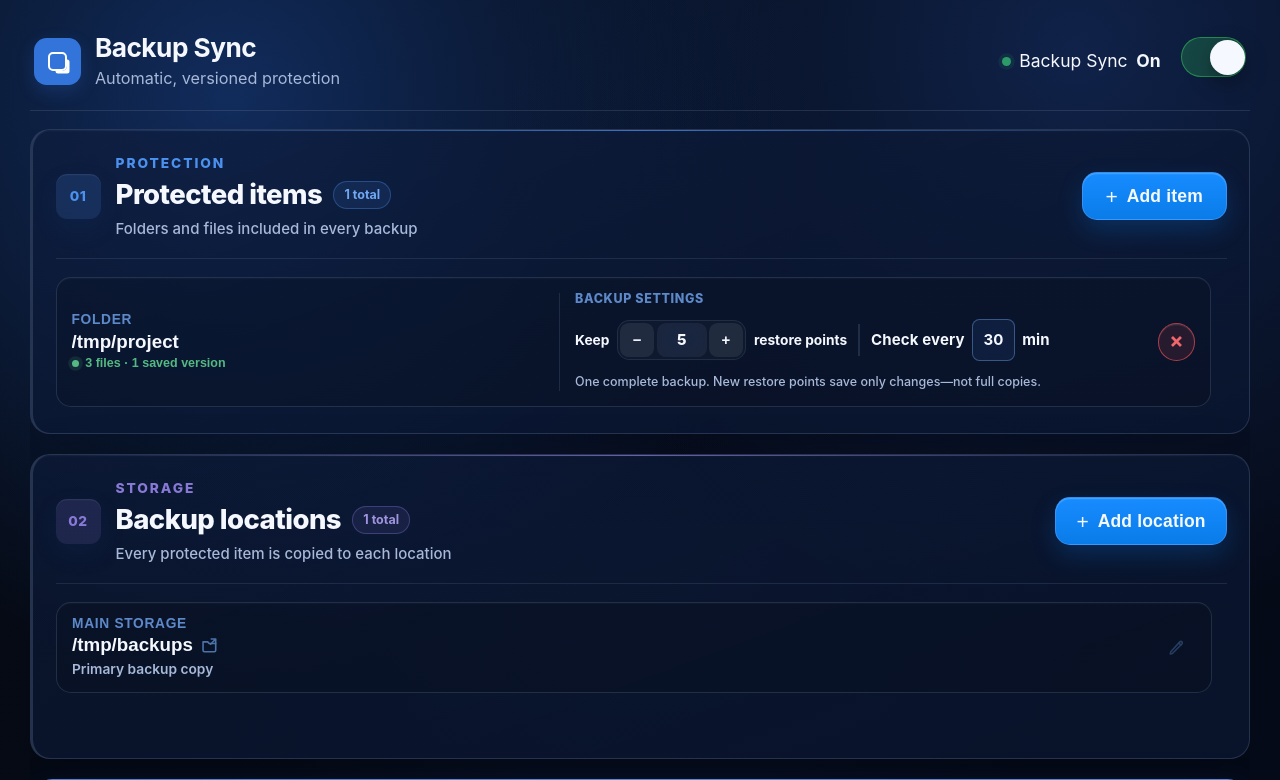
Test: MinimalMain › warns that removing protection permanently deletes saved versions
Expected: the heading "Backup locations" is shown, [115, 500, 341, 541]
Click the button named "Remove protected path /tmp/project" at x=1176, y=342, box [1158, 323, 1195, 360]
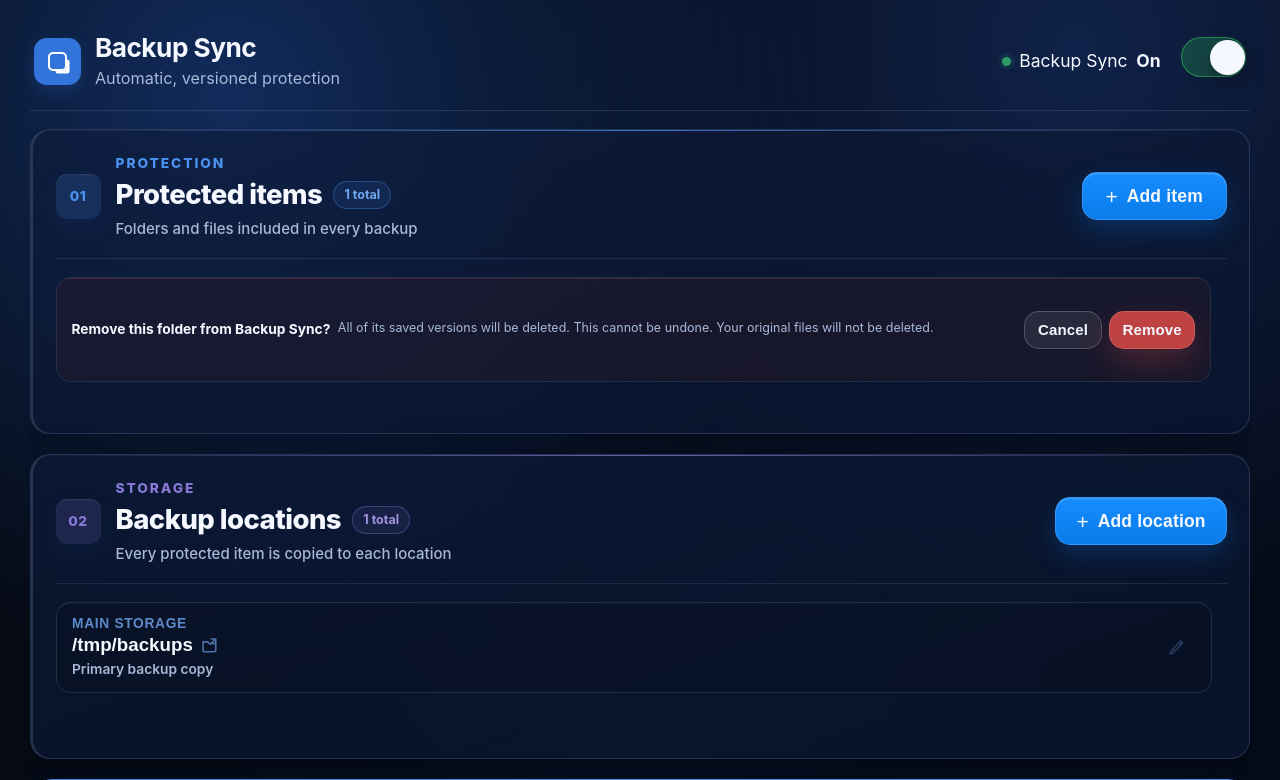
Expected: the text "Remove this folder from Backup Sync?" is shown, [71, 319, 330, 340]
Expected: the text "Your original files will not be deleted." is shown, [338, 320, 934, 335]
